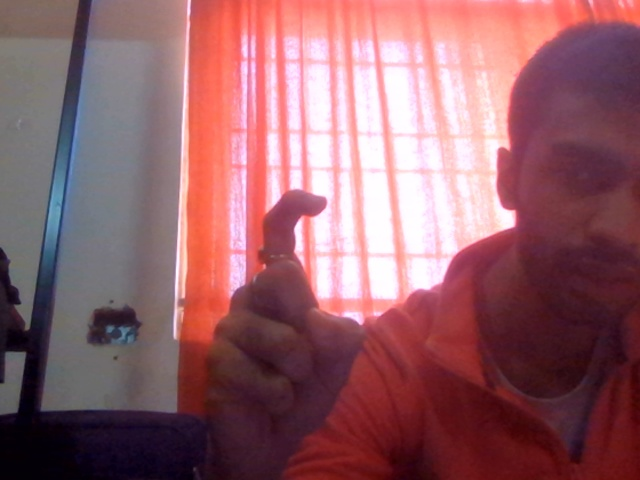X: (177, 160, 395, 480)
